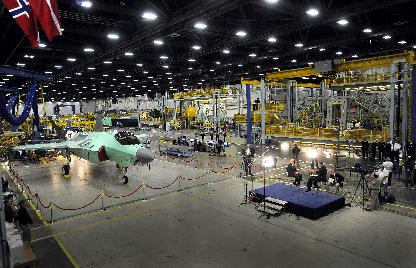F22: (10, 112, 154, 182)
